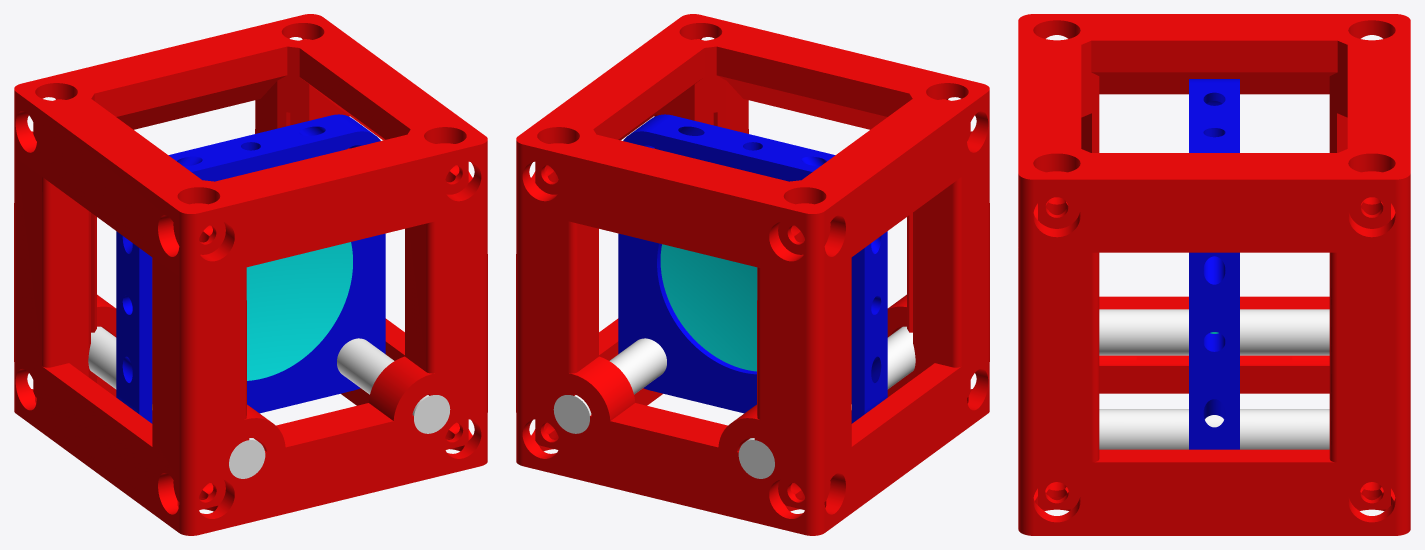
File: Cube 1x1 (Concave Lense).fbx
3 views of the same model, side by side, from view 1: azimuth 30°, elevation 25°; view 2: azimuth 150°, elevation 25°; view 3: azimuth 270°, elevation 25° (orthographic). The views are drawn at different scales.
Parts seen in each view (by area): view 1: Base Cube 1x1 (Concave Lense); view 2: Base Cube 1x1 (Concave Lense); view 3: Base Cube 1x1 (Concave Lense).
Boxes of the visible parts, <box> form: Base Cube 1x1 (Concave Lense): <box>14,14,487,535</box>; Base Cube 1x1 (Concave Lense): <box>516,14,989,535</box>; Base Cube 1x1 (Concave Lense): <box>1018,14,1410,535</box>.
Bounding box in the file's own units: 4.98 × 4.99 × 4.98.
